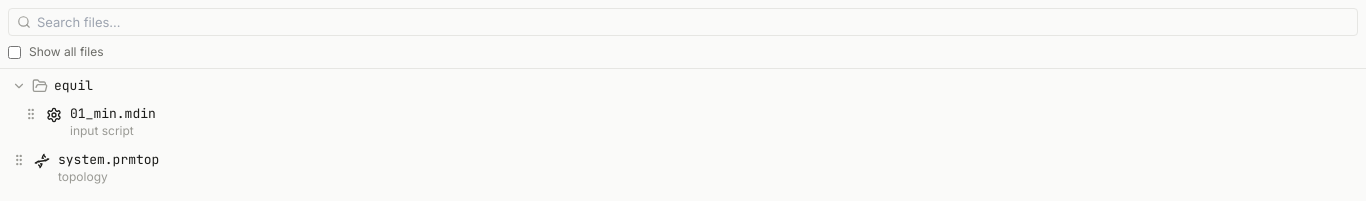
FilePanel folder tree › hides a folder's children once it is collapsed, and shows them again on re-click
The width and height of the screenshot is (1366, 201).
Expected: the button "01_min.mdin" is shown, left=70, top=105, right=1354, bottom=123
Click the button "equil": click(74, 86) left=4, top=73, right=1362, bottom=99
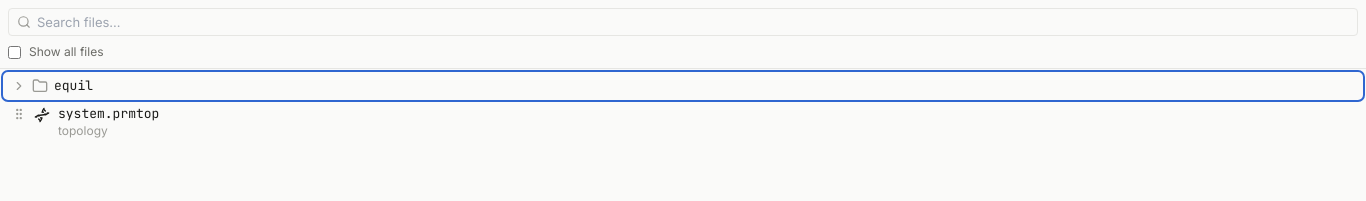
Expected: the button "system.prmtop" is shown, left=58, top=105, right=1354, bottom=123
Now the button "01_min.mdin" is gone
Now the button "equil" is collapsed
Click the button "equil": click(74, 86) left=4, top=73, right=1362, bottom=99
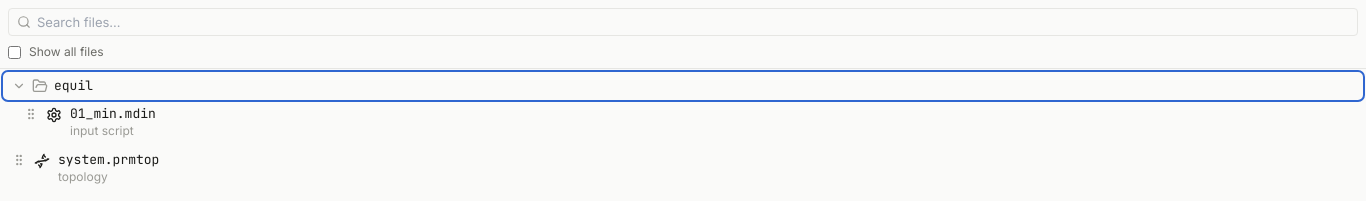
Now the button "01_min.mdin" is shown, box left=70, top=105, right=1354, bottom=123
